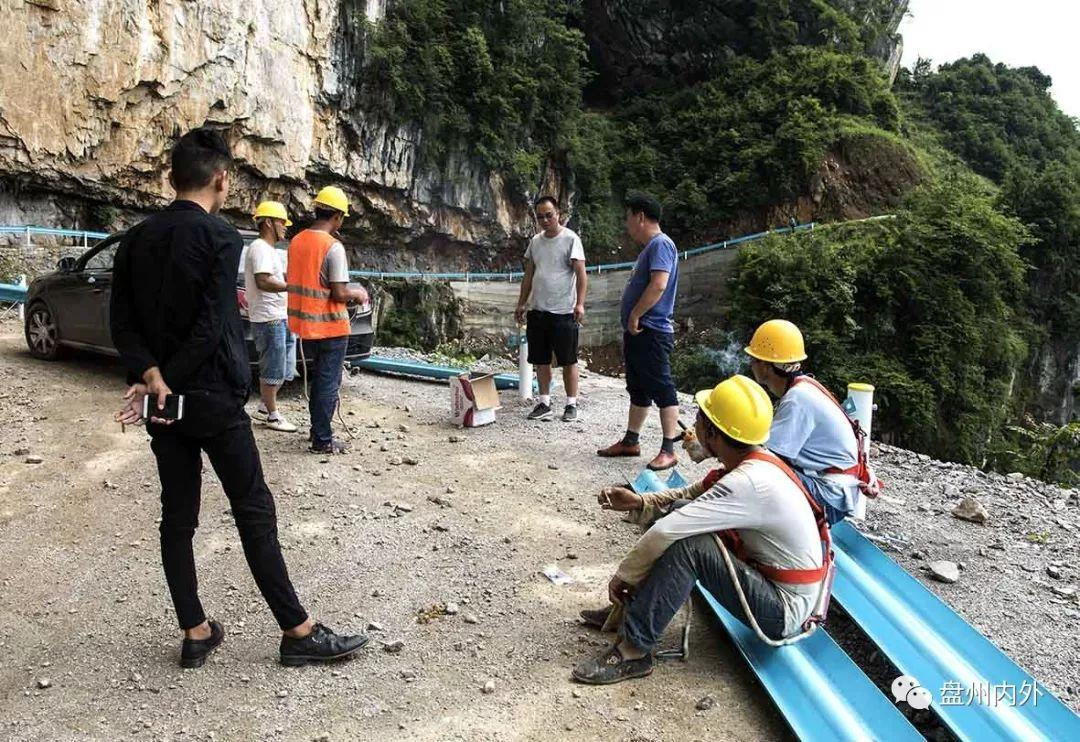helmet: (702, 377, 778, 444), (746, 320, 808, 365), (318, 188, 351, 217), (258, 203, 291, 226)
